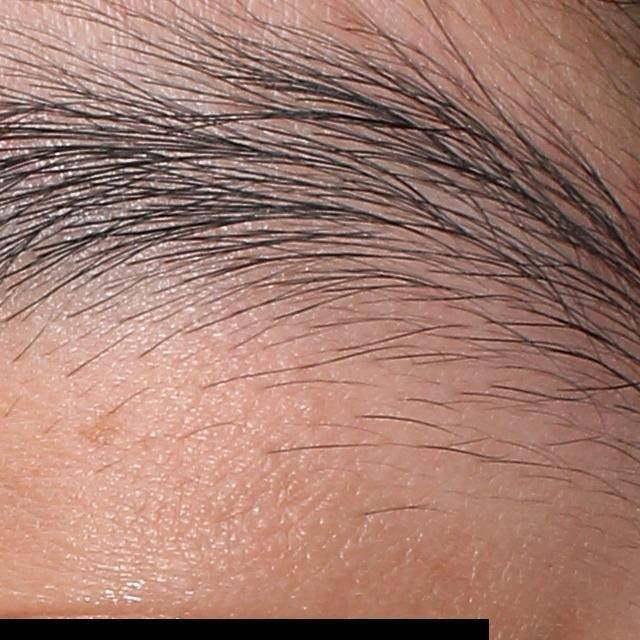melasma: (74, 407, 134, 448)
